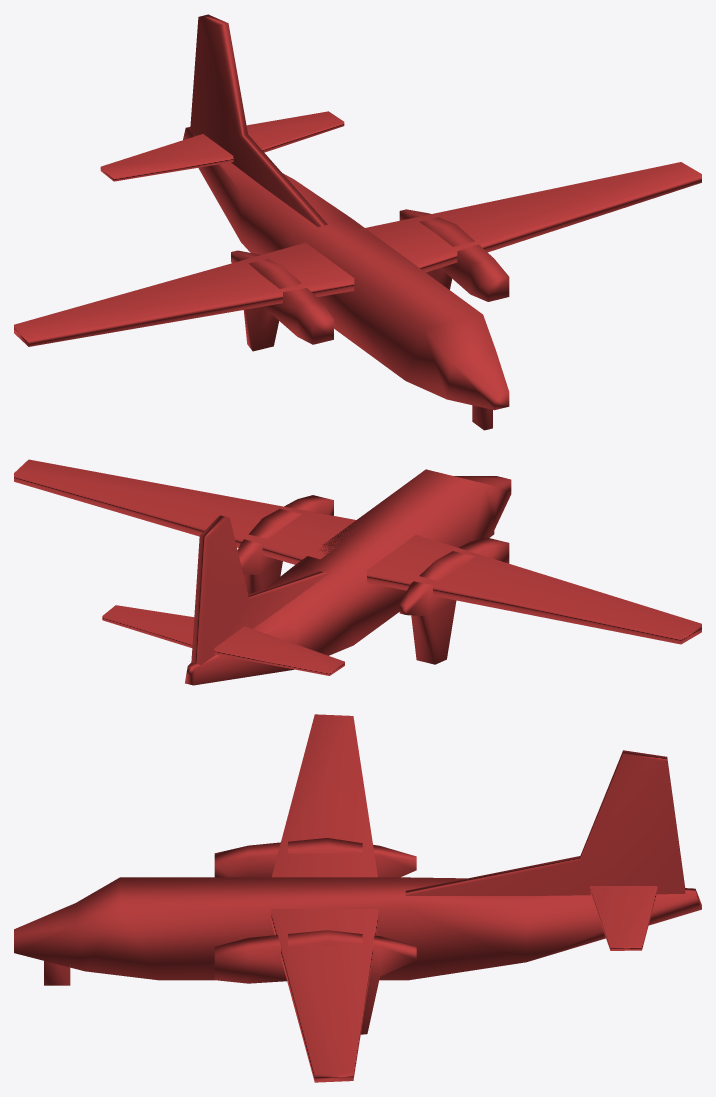
Rendered from privatjet2_colmesh.fbx.
3 views of the same model, one above another, from view 1: azimuth 30°, elevation 25°; view 2: azimuth 150°, elevation 25°; view 3: azimuth 270°, elevation 25° (orthographic). The views are drawn at different scales.
Visible parts, largest first — view 1: body_main; view 2: body_main; view 3: body_main.
Part boxes in pixels (x1,y1,x2,y2): body_main: (14,14,701,430); body_main: (14,459,701,685); body_main: (14,714,701,1082).
Bounding box in the file's own units: 2755 × 827 × 2232.
